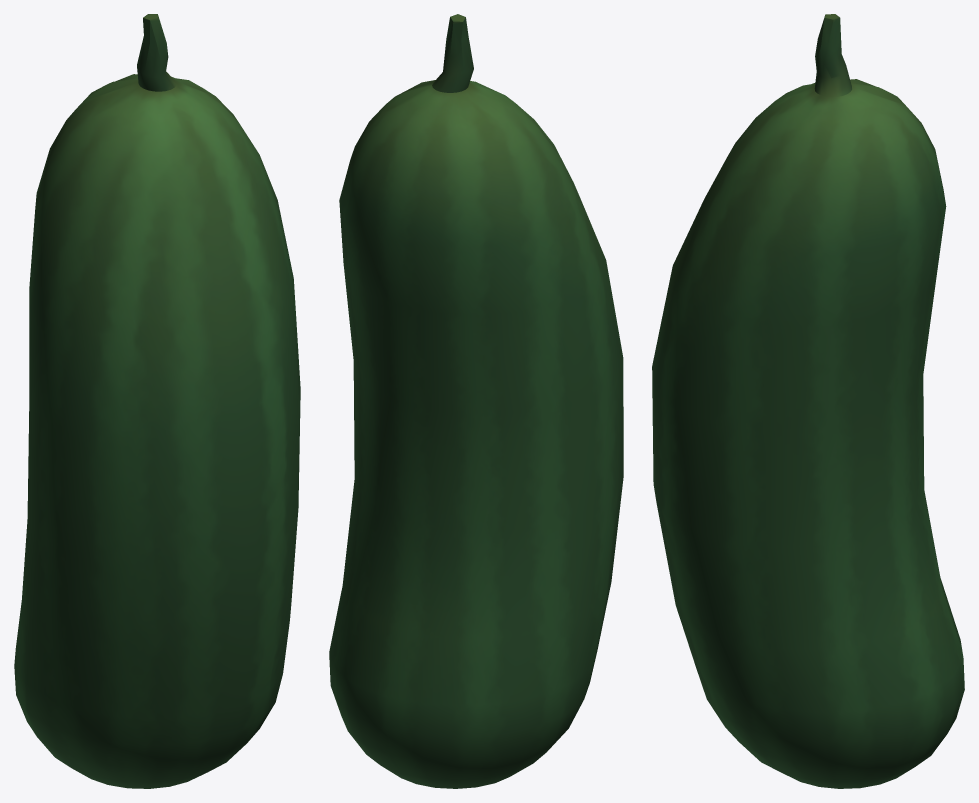
Rendered from cucumber.fbx.
3 views of the same model, side by side, from view 1: azimuth 30°, elevation 25°; view 2: azimuth 150°, elevation 25°; view 3: azimuth 270°, elevation 25° (orthographic).
Visible parts, largest first — view 1: cucumber; view 2: cucumber; view 3: cucumber.
Part boxes in pixels (x1,y1,x2,y2): cucumber: (14, 14, 300, 788); cucumber: (329, 14, 623, 788); cucumber: (652, 14, 964, 788).
Bounding box in the file's own units: 0.2686 × 0.8132 × 0.3026.
